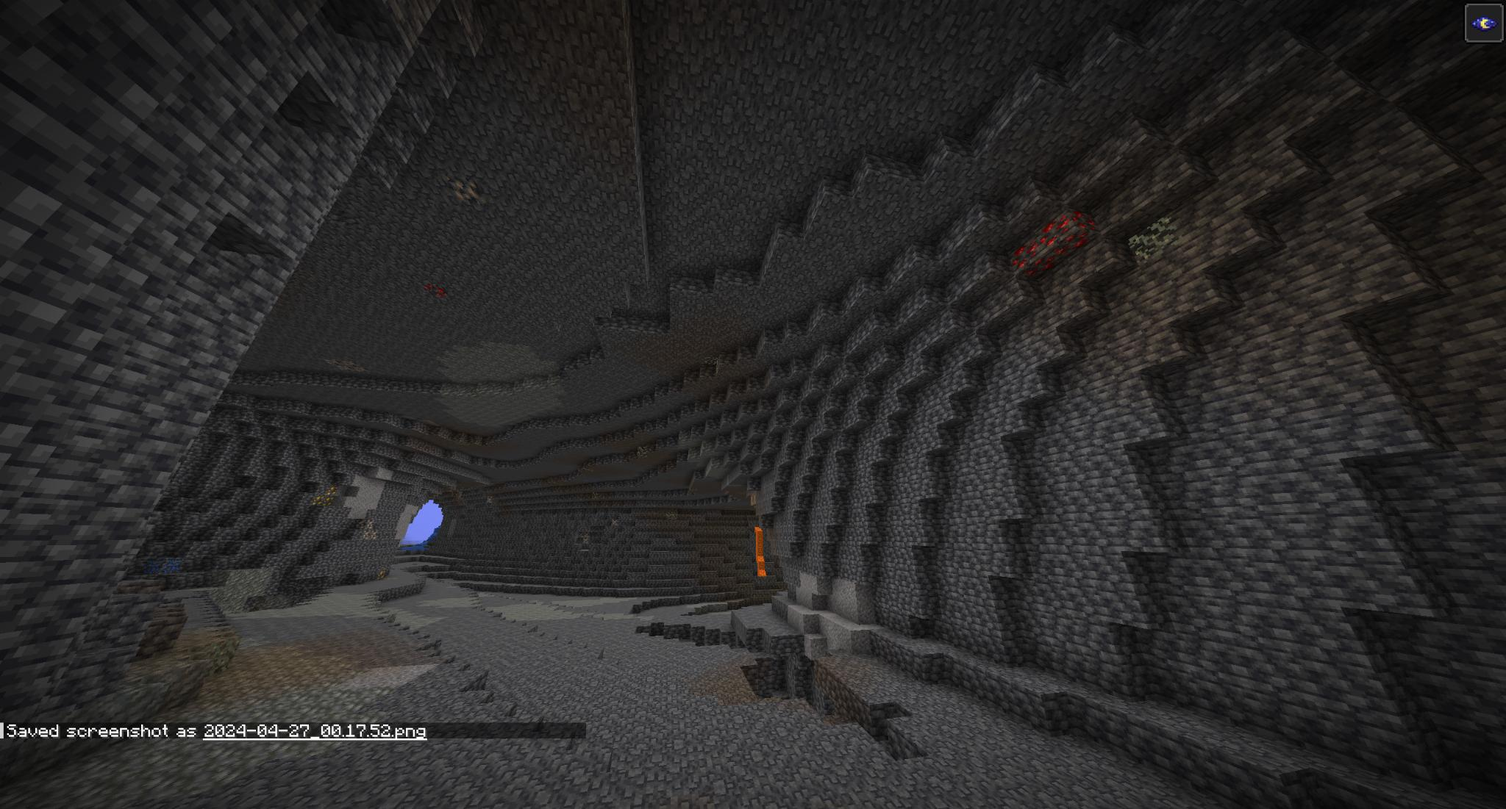iron ore: (442, 169, 497, 210)
redstone ore: (1003, 213, 1098, 262), (421, 284, 443, 301)
